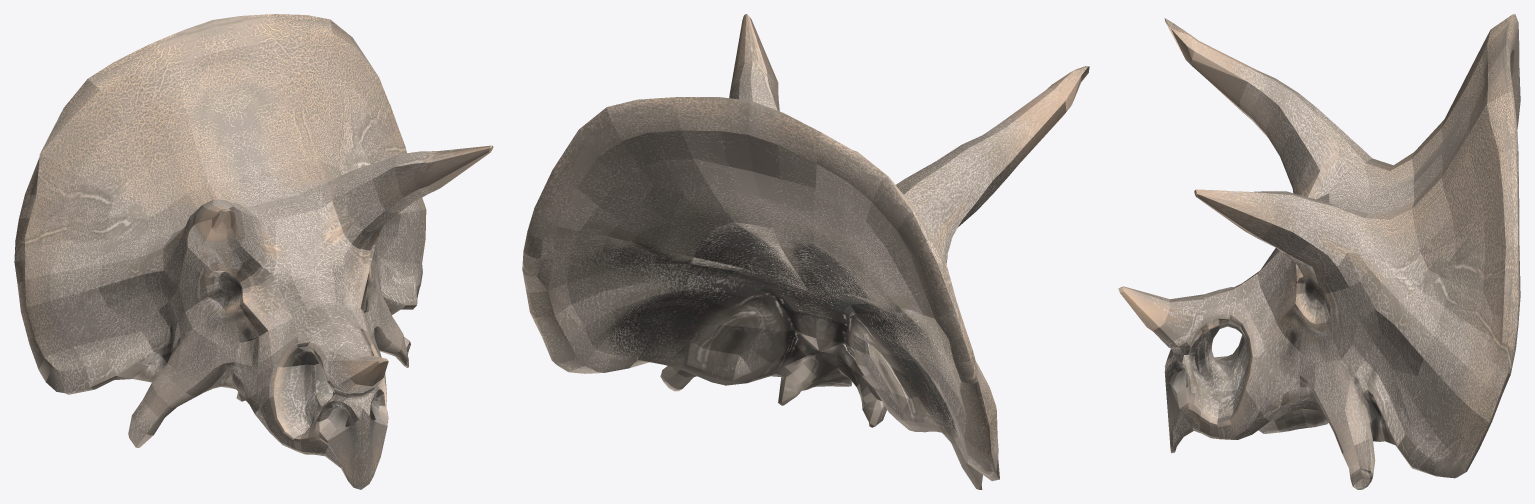
File: Triceratops.fbx
3 views of the same model, side by side, from view 1: azimuth 30°, elevation 25°; view 2: azimuth 150°, elevation 25°; view 3: azimuth 270°, elevation 25° (orthographic). The views are drawn at different scales.
Parts seen in each view (by area): view 1: triceratops; view 2: triceratops; view 3: triceratops.
Boxes of the visible parts, x1,y1,x2,y2 form: triceratops: [14, 14, 493, 489]; triceratops: [522, 14, 1089, 489]; triceratops: [1118, 14, 1520, 489].
Size of the model in its own units: 504 by 436 by 389.
